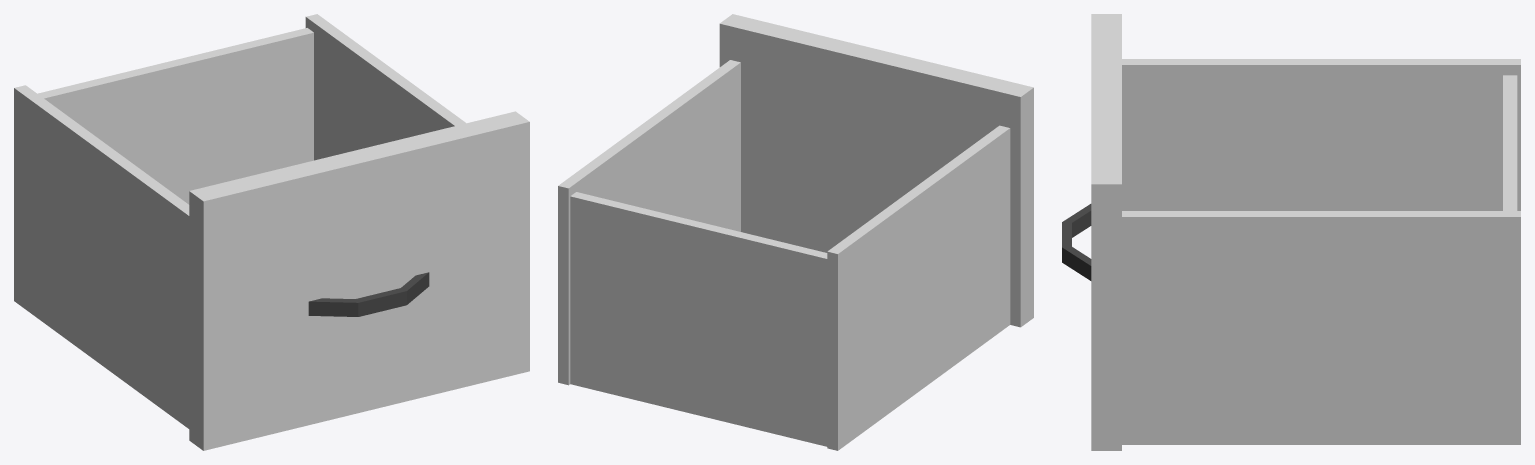
Rendered from Armaario01_Cajon03.fbx.
The picture shows the model from 3 angles, left to right: view 1: azimuth 30°, elevation 25°; view 2: azimuth 150°, elevation 25°; view 3: azimuth 270°, elevation 25°; orthographic projection. The views are drawn at different scales.
Visible parts, largest first — view 1: Armaario01_Cajon03; view 2: Armaario01_Cajon03; view 3: Armaario01_Cajon03.
Part boxes in pixels (x1,y1,x2,y2): Armaario01_Cajon03: (14,14,529,450); Armaario01_Cajon03: (558,14,1033,450); Armaario01_Cajon03: (1062,14,1520,450).
Size of the model in its own units: 68.02 by 49.71 by 77.49.
